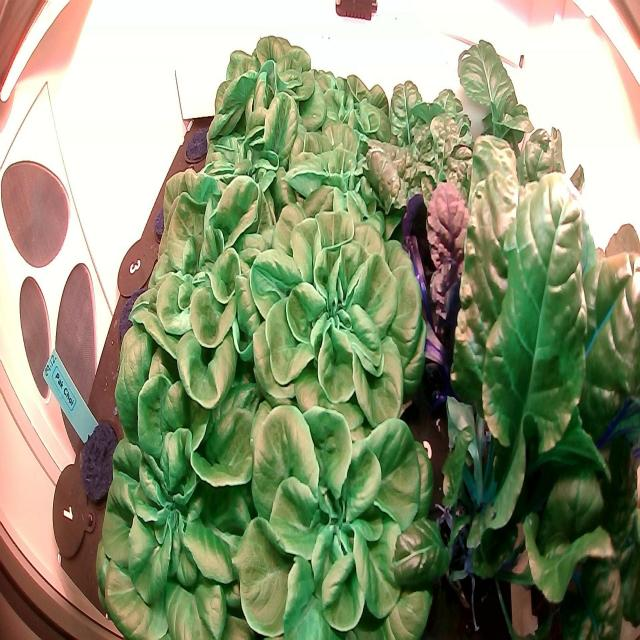Ready: (230, 377, 444, 640), (239, 184, 435, 445), (91, 374, 262, 640), (129, 172, 283, 404), (111, 276, 264, 487), (198, 25, 327, 205), (280, 118, 381, 213), (294, 62, 382, 150)
pod: (74, 419, 122, 508), (182, 115, 213, 167)
